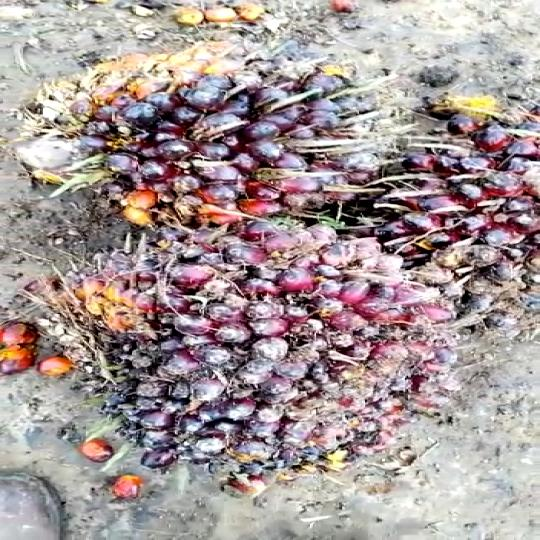kurang masak: (70, 223, 468, 485), (13, 32, 351, 218), (333, 93, 540, 324)
